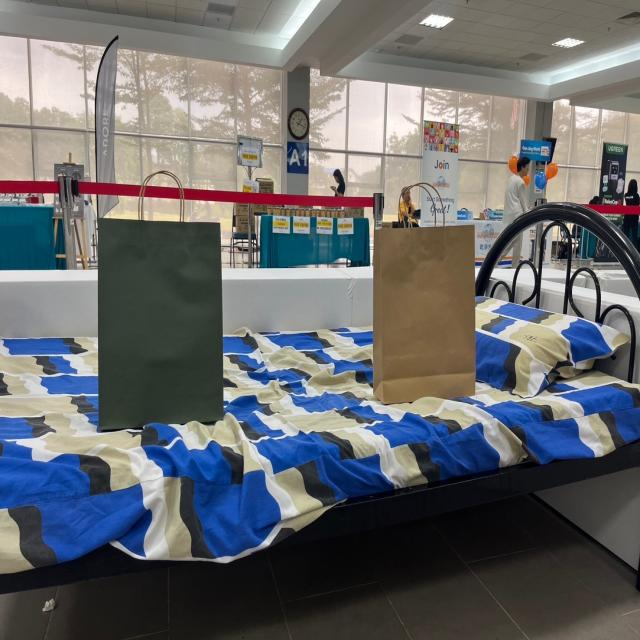bag: (107, 166, 218, 406), (372, 170, 475, 394)
